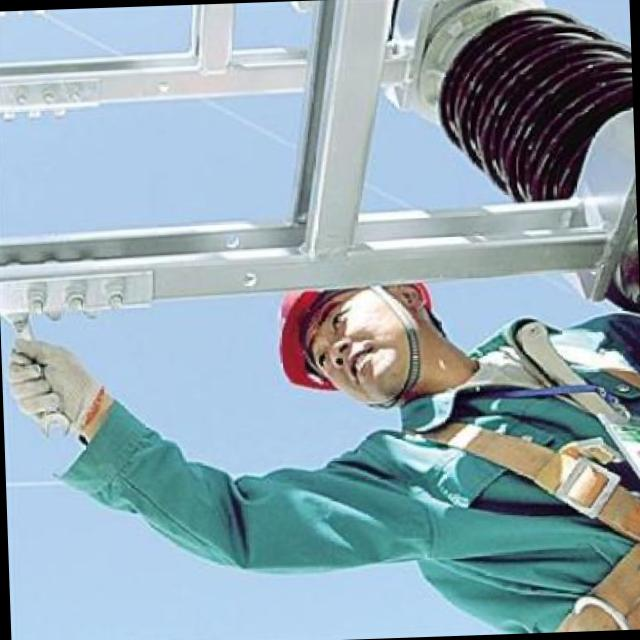helmet: (234, 268, 476, 410)
